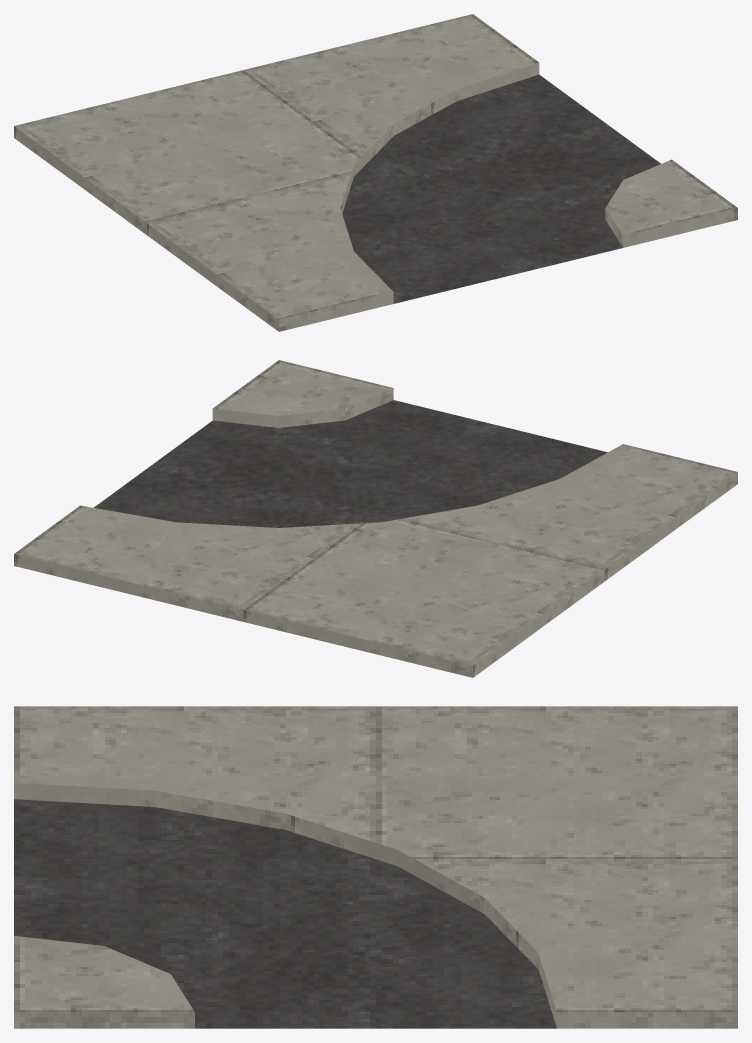
File: road-asphalt-corner.glb
The picture shows the model from 3 angles, top to bottom: view 1: azimuth 30°, elevation 25°; view 2: azimuth 150°, elevation 25°; view 3: azimuth 270°, elevation 25°; orthographic projection. The views are drawn at different scales.
Visible parts, largest first — view 1: road-asphalt-corner; view 2: road-asphalt-corner; view 3: road-asphalt-corner.
Boxes of the visible parts, left/top/right/bottom form: road-asphalt-corner: left=14, top=14, right=737, bottom=331; road-asphalt-corner: left=14, top=360, right=737, bottom=677; road-asphalt-corner: left=14, top=706, right=737, bottom=1028.
Bounding box in the file's own units: 2 × 0.05 × 2.
2 materials, 2 textured.
